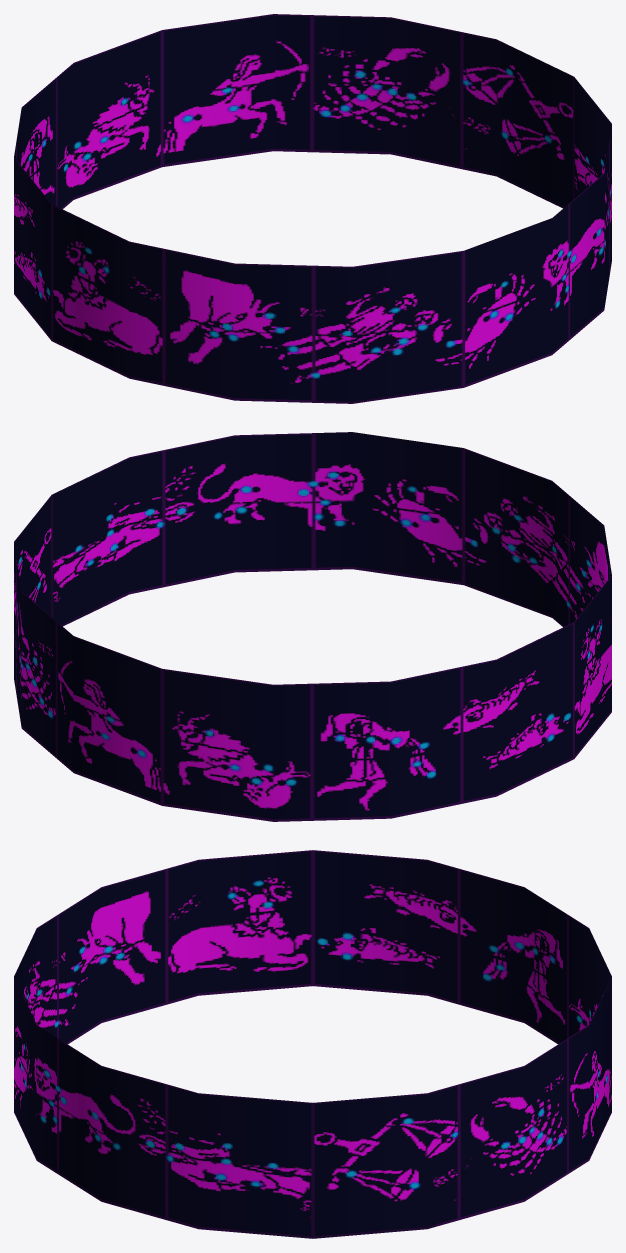
The model's file is zodiacalbeltV2BlueandMagenta.fbx.
3 renders of one model, top to bottom at view 1: azimuth 30°, elevation 25°; view 2: azimuth 150°, elevation 25°; view 3: azimuth 270°, elevation 25°, orthographic.
Visible parts, largest first — view 1: Cylinder; view 2: Cylinder; view 3: Cylinder.
Boxes of the visible parts, x1,y1,x2,y2 form: Cylinder: [14, 14, 611, 403]; Cylinder: [14, 432, 611, 821]; Cylinder: [14, 850, 611, 1238].
Bounding box in the file's own units: 565 × 142 × 565.
Materials: 1 (1 with a texture image).
